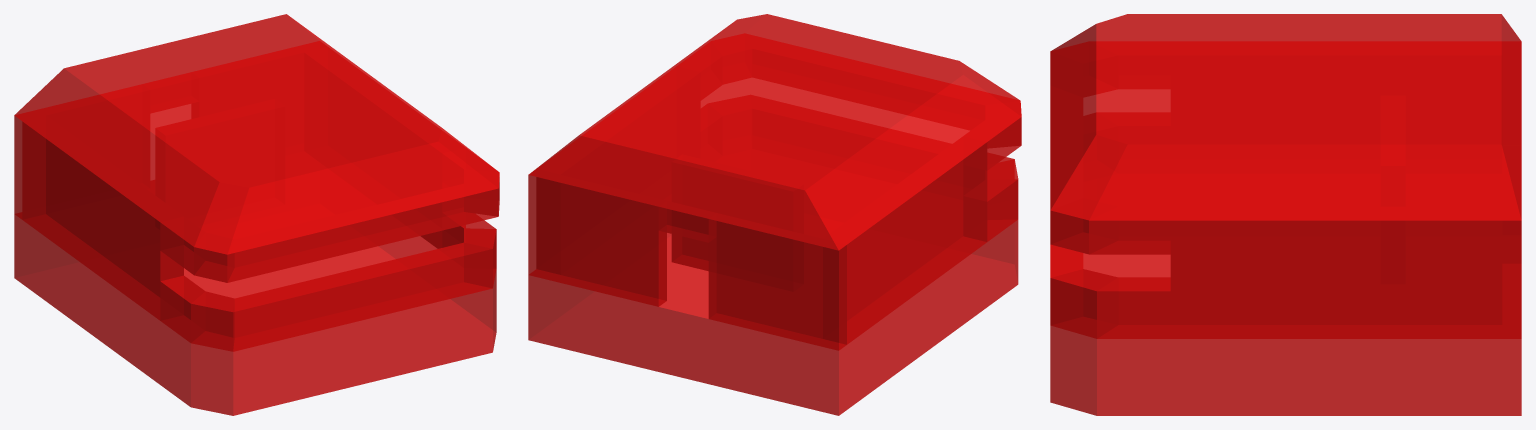
The model's file is SM_Bld_Bunker_Large_01_Collision.fbx.
The picture shows the model from 3 angles, left to right: view 1: azimuth 30°, elevation 25°; view 2: azimuth 150°, elevation 25°; view 3: azimuth 270°, elevation 25°; orthographic projection. The views are drawn at different scales.
Parts seen in each view (by area): view 1: SM_Bld_Bunker_Large_01_Collision; view 2: SM_Bld_Bunker_Large_01_Collision; view 3: SM_Bld_Bunker_Large_01_Collision.
Boxes of the visible parts, bbox=[...] form: SM_Bld_Bunker_Large_01_Collision: bbox=[14, 14, 499, 415]; SM_Bld_Bunker_Large_01_Collision: bbox=[528, 14, 1021, 415]; SM_Bld_Bunker_Large_01_Collision: bbox=[1050, 14, 1521, 415].
Bounding box in the file's own units: 893 × 574 × 992.
